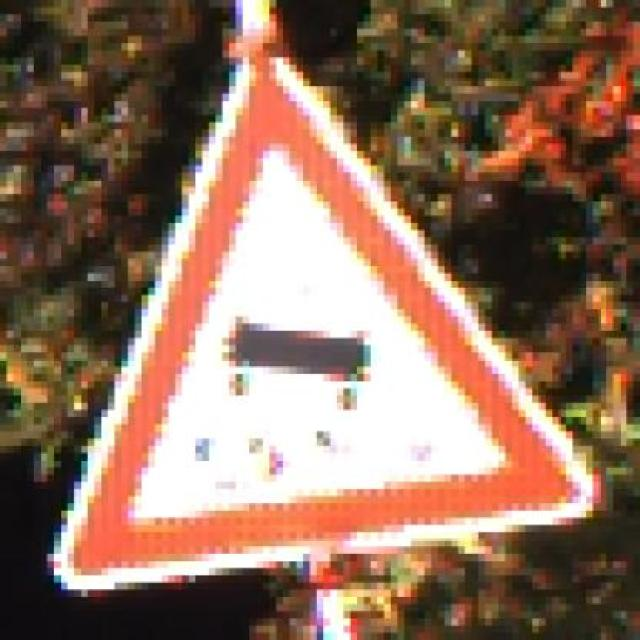Slippery Road Ahead: (47, 65, 593, 597)
